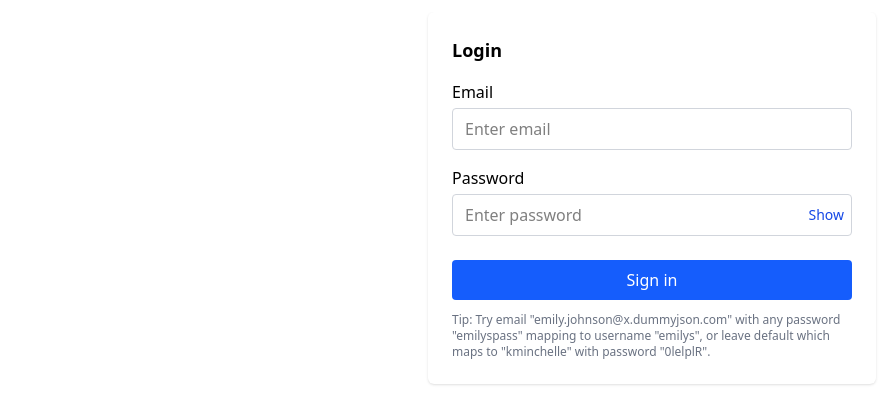
Test case: login component - unit testing › logs in and shows products integration testing
Type "emily.johnson@x.dummyjson.com" into the field labelled "Email" at [652, 129], box [452,108,852,150]
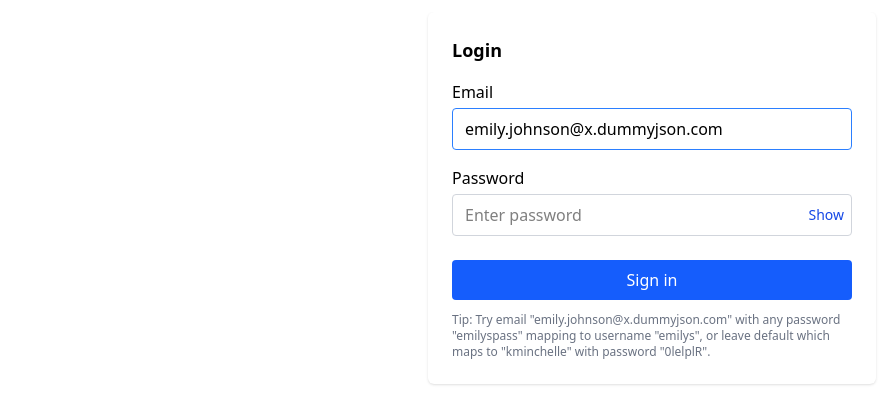
Type "emilyspass" into the password field with placeholder "Enter password" at [652, 215], box [452,194,852,236]
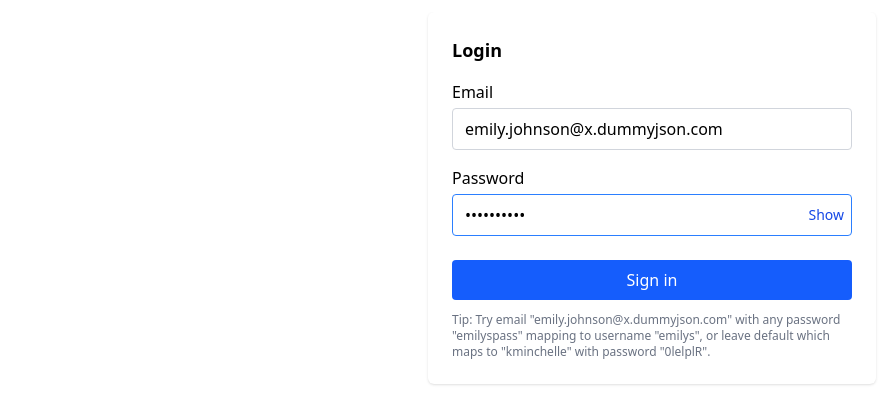
Click the button "Sign in" at [652, 280], box [452,260,852,300]
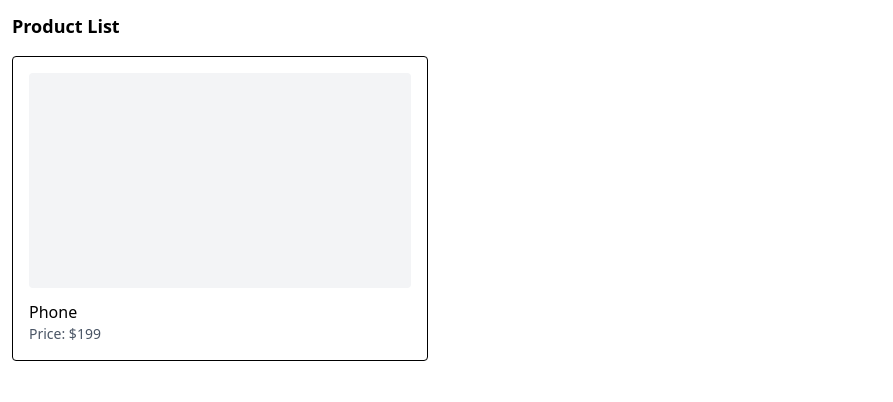
Result: the heading "Product List" is shown at [12,14,120,38]
Result: the heading "Phone" is shown at [29,301,77,323]
